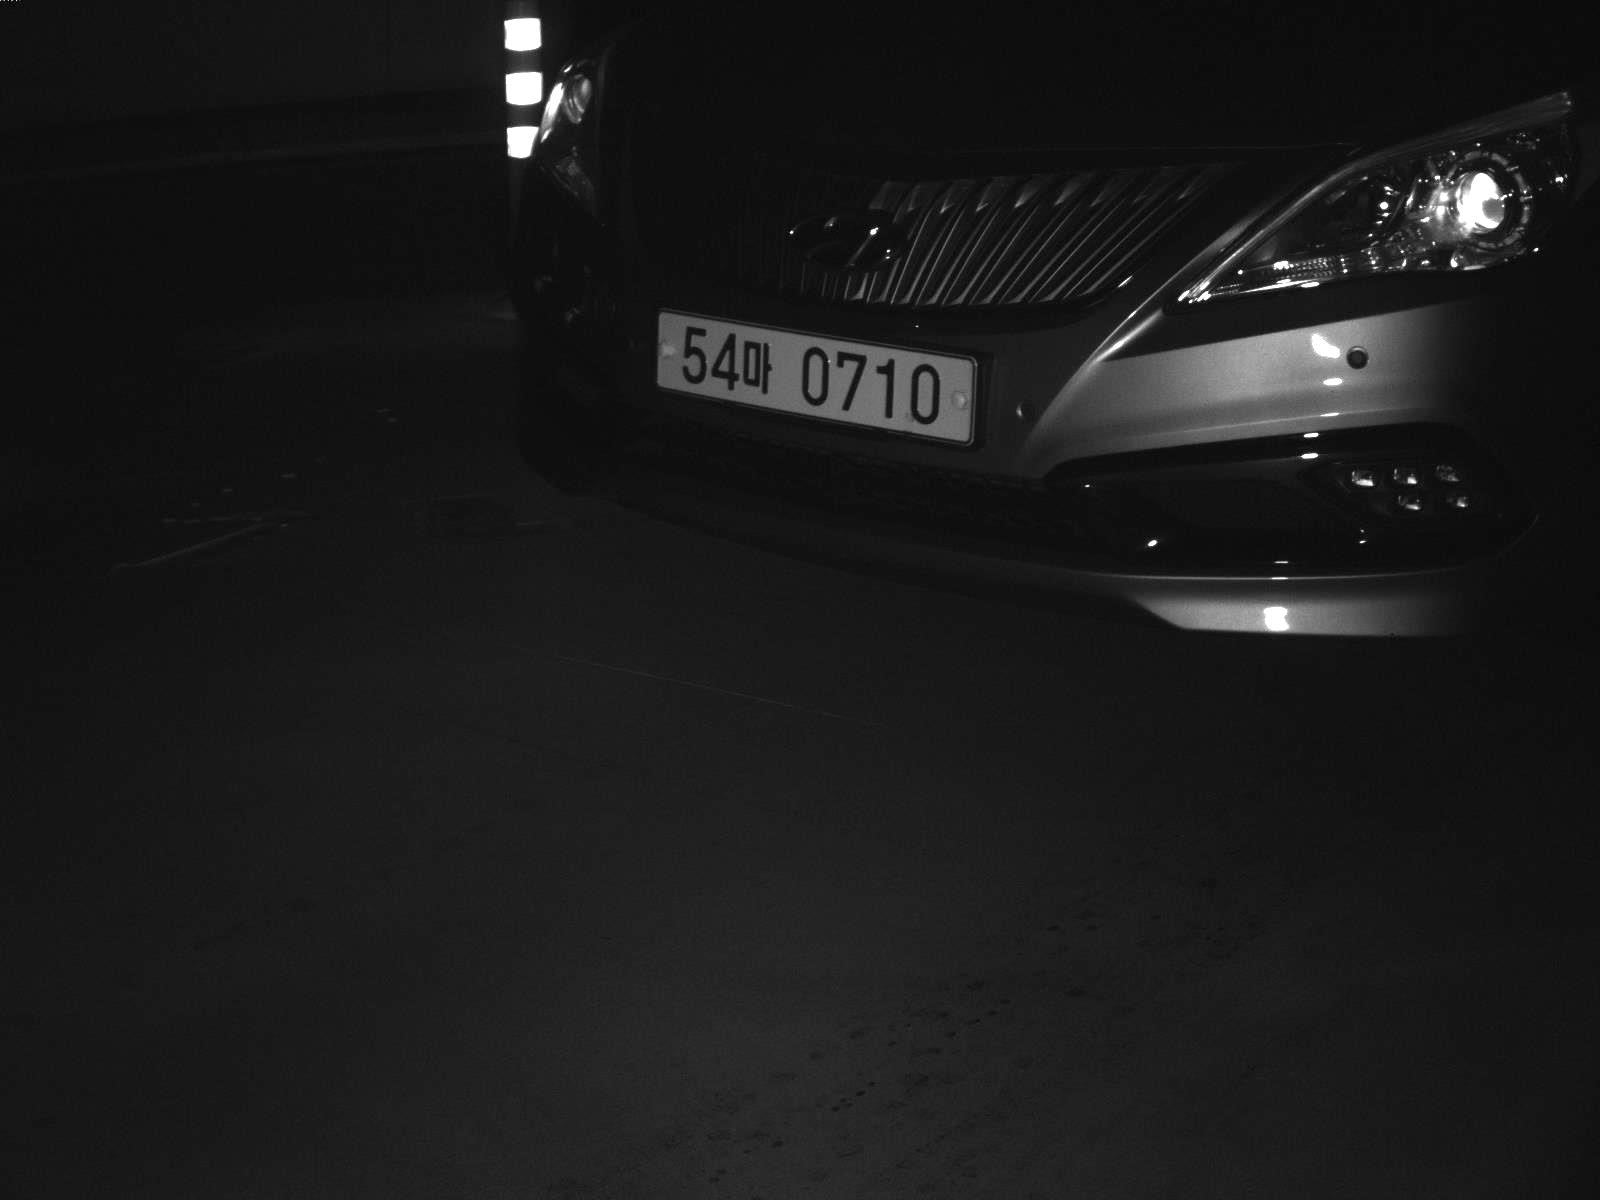P1_1.0: (653, 307, 979, 446)
